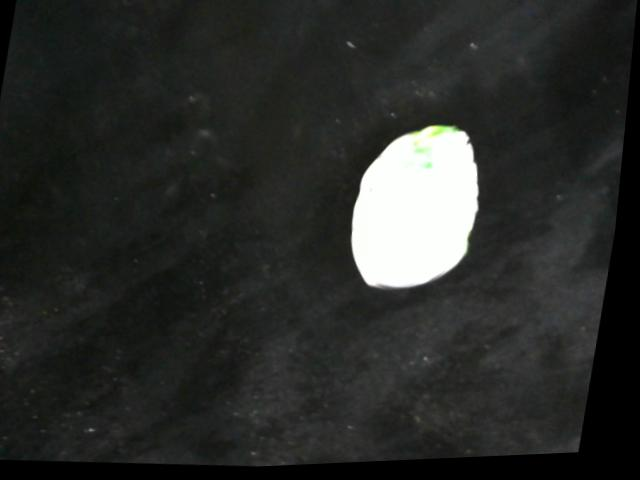can: (351, 119, 489, 302)
